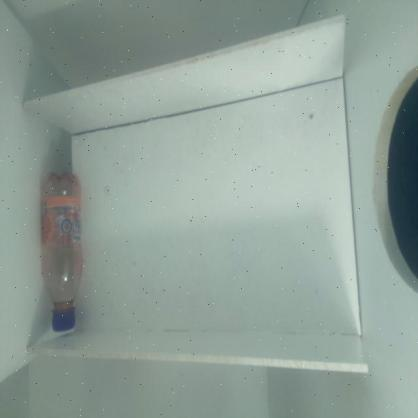bottle: (27, 156, 100, 344)
cap: (50, 306, 78, 332)
label: (43, 192, 86, 246)
